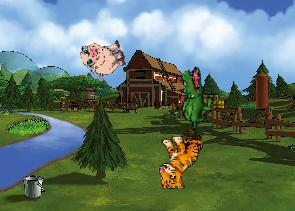crocodile: (165, 64, 224, 133)
pig: (77, 32, 129, 82)
tiger: (157, 134, 203, 189)
